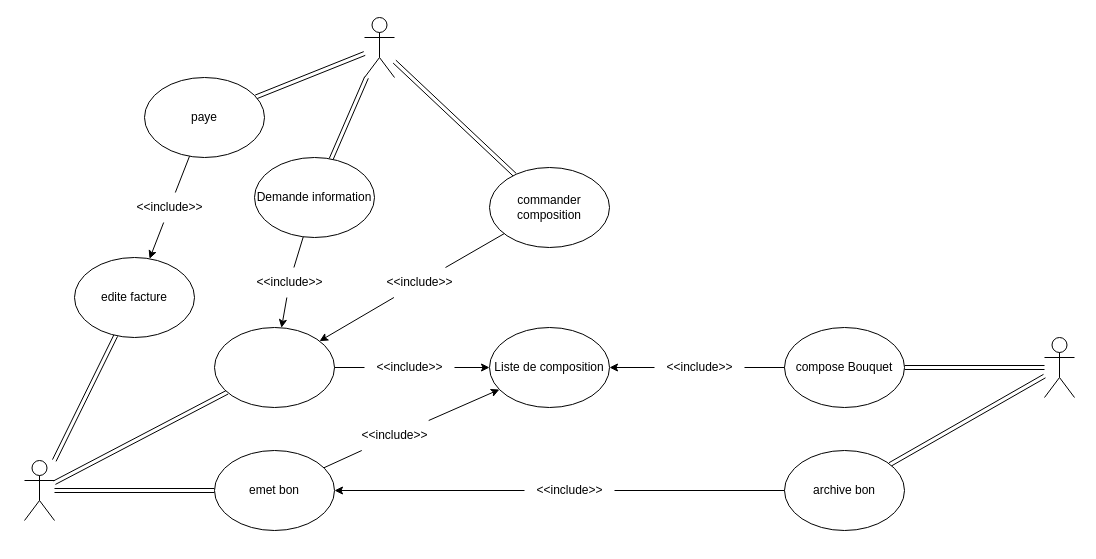
This 1096x559 diagram has some shape labels left out. The shapes that lost their labels are listed below. From the top down, each one's centre as x and y in pixels, then its label:
At [379,47]: "Client".
At [274,367]: "Fournit information".
At [1059,367]: "Ouvrier".
At [39,490]: "Vendeur".
